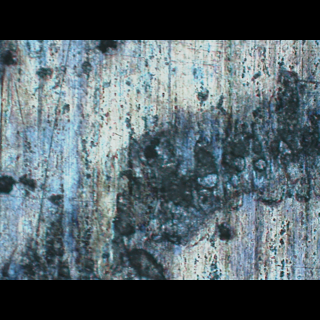d: (4, 73, 320, 279)
